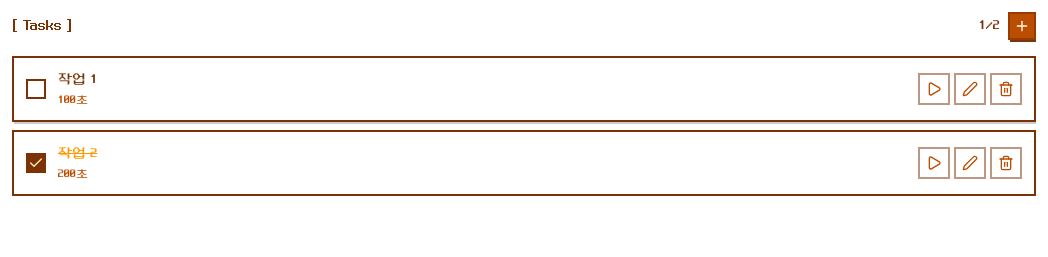
TaskList › 추가 버튼 클릭 시 입력 폼이 표시된다
Click the 1st button. click: (1022, 26)
box: [1008,12,1036,40]
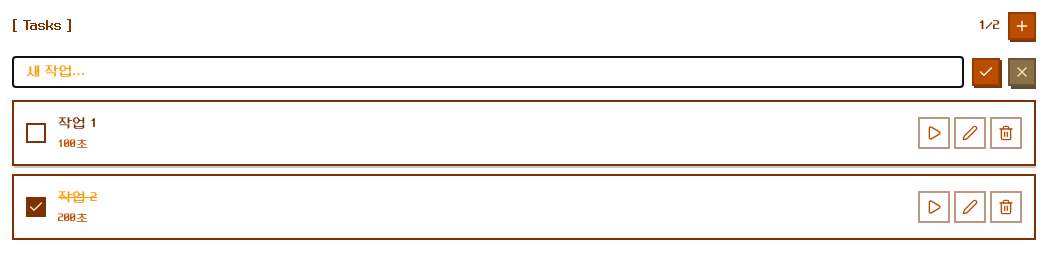
Expected: the field with placeholder "새 작업..." is shown, [12,56,964,88]
